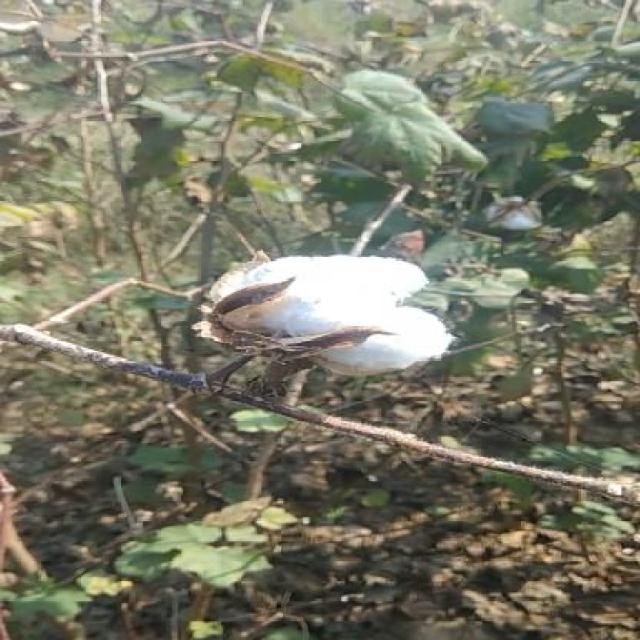cotton_ready: (171, 251, 472, 435)
